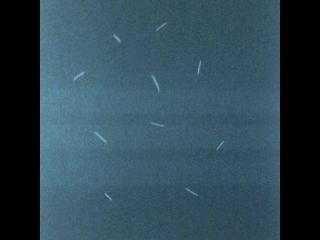scratch: (149, 71, 162, 95), (92, 129, 109, 147), (110, 30, 125, 50), (182, 184, 201, 199), (102, 188, 117, 203), (147, 120, 167, 130), (213, 138, 226, 153), (72, 69, 86, 82), (195, 59, 203, 79), (154, 21, 168, 32)
